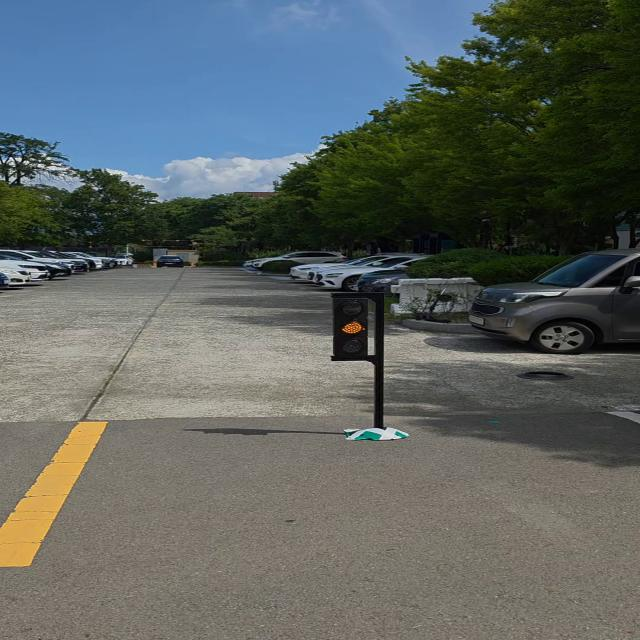yellow: (329, 294, 372, 358)
